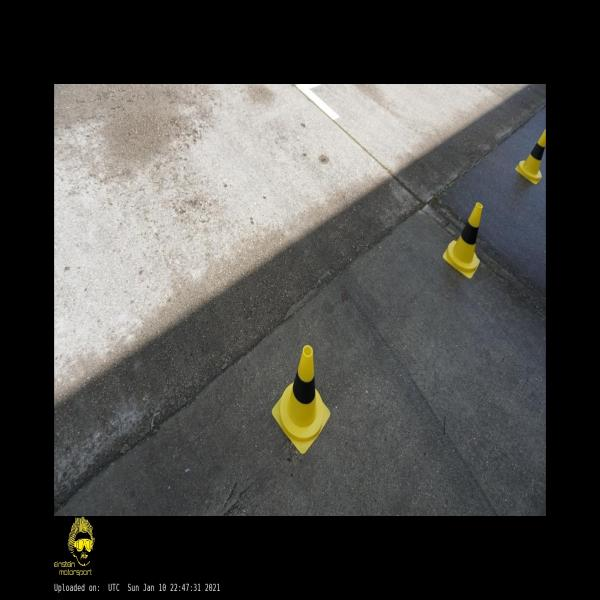yellow_cone: (272, 345, 330, 453), (442, 202, 483, 279), (516, 128, 546, 185)
